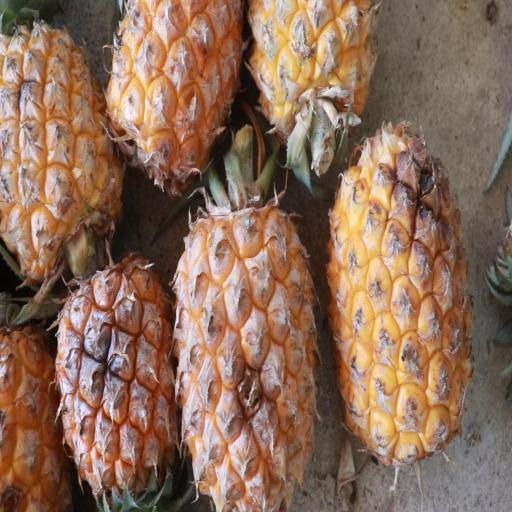Pineapple - v8 v1: (324, 117, 478, 462), (172, 164, 322, 512), (0, 0, 128, 287), (52, 242, 185, 510), (102, 0, 246, 188), (243, 0, 376, 176)
